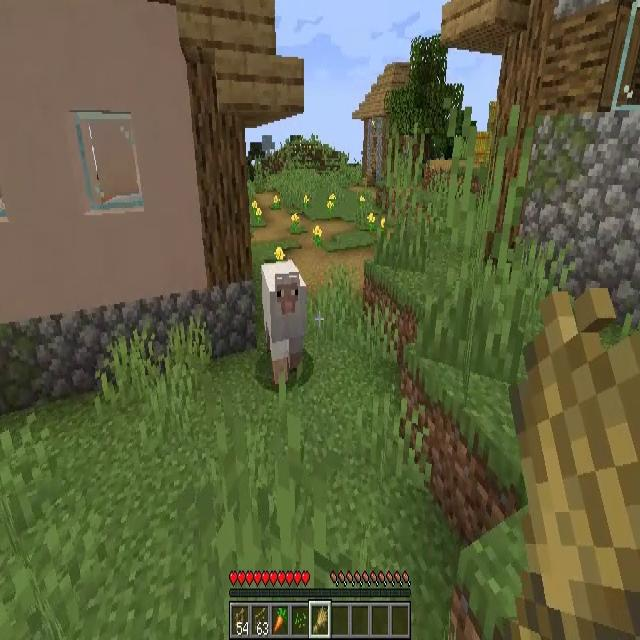flower: (312, 224, 323, 245), (291, 214, 300, 233), (274, 247, 285, 260), (366, 214, 375, 228), (256, 207, 262, 224), (327, 201, 333, 214), (274, 195, 279, 209), (304, 194, 308, 210), (360, 194, 366, 202), (330, 195, 336, 201)
sheep: (262, 261, 306, 377)
